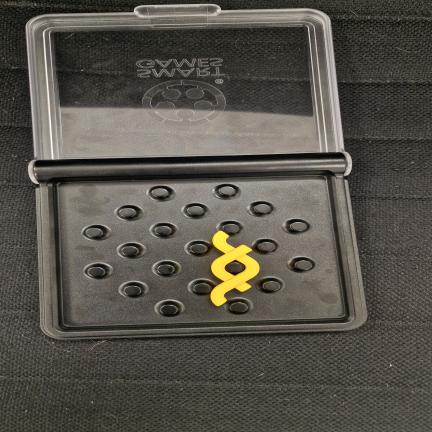A_Yellow: (211, 231, 259, 306)
board: (29, 153, 367, 340)
hinge: (29, 155, 347, 178)
pin: (159, 304, 178, 316), (289, 221, 308, 232), (87, 266, 106, 277), (193, 283, 212, 294), (123, 285, 142, 296), (118, 207, 136, 218), (257, 241, 275, 252), (190, 243, 208, 254), (230, 302, 248, 313), (262, 281, 281, 291), (157, 264, 174, 275), (85, 228, 103, 238), (121, 246, 139, 256), (226, 262, 244, 272), (152, 188, 169, 198), (218, 186, 235, 196), (254, 204, 271, 214), (187, 206, 204, 216), (155, 226, 172, 236), (295, 260, 312, 270), (223, 223, 239, 233)
